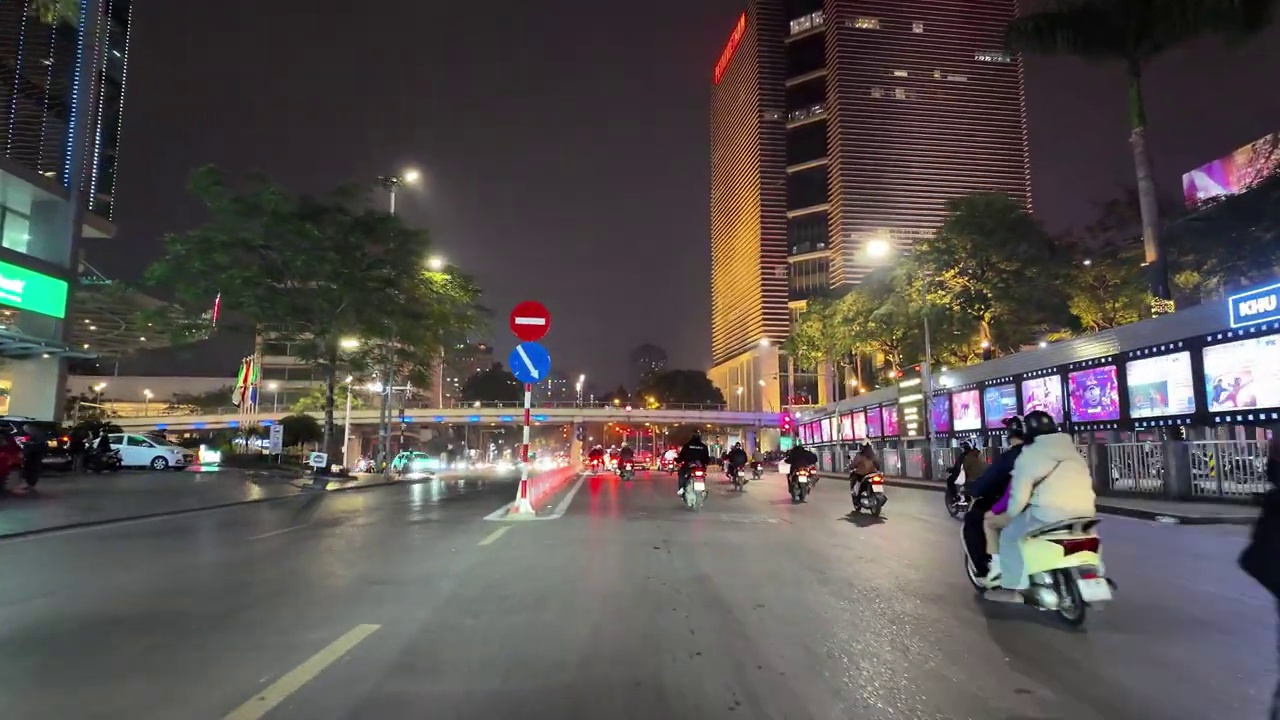acesa: (858, 232, 893, 265), (420, 252, 450, 283), (398, 164, 427, 191)
